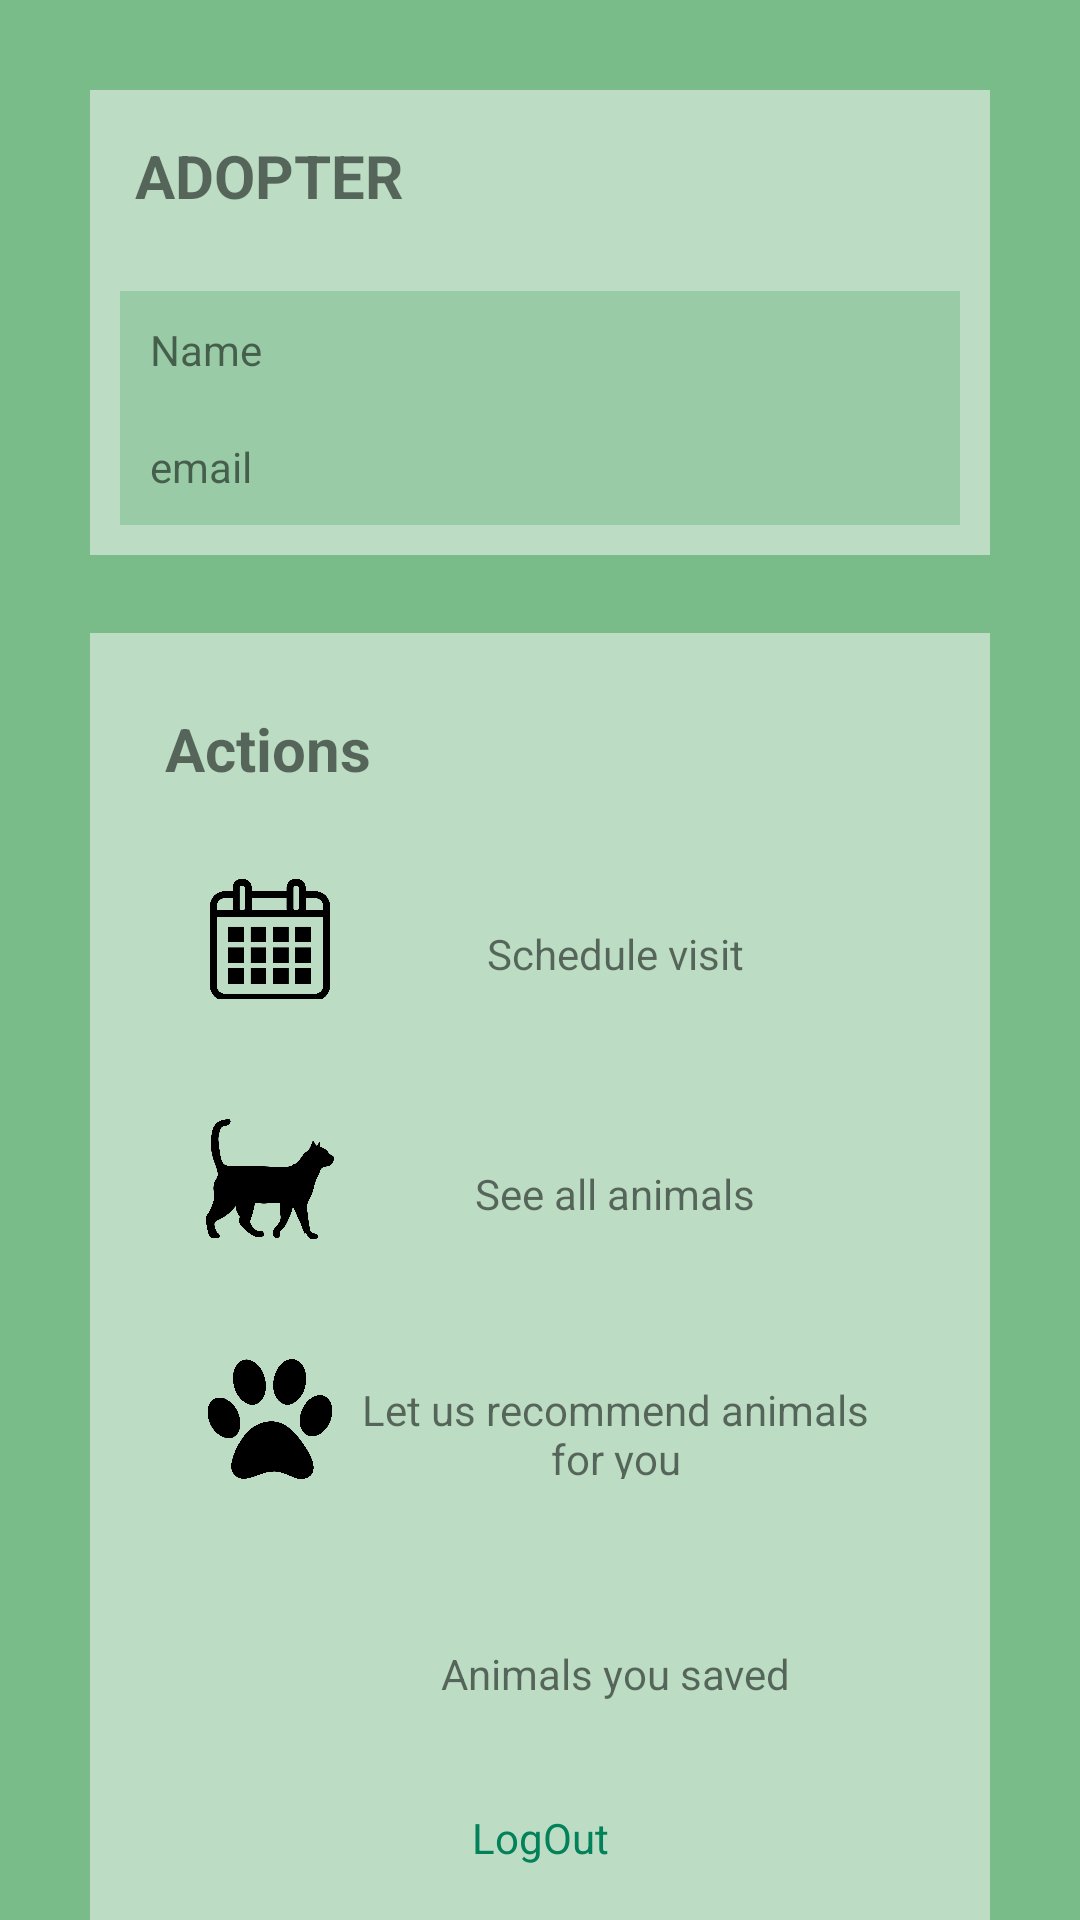

Point at icon controls on the screen. Image size 1080px x 1920px, points as [x,y].
calendar: [270,939]
cat: [270,1179]
paw: [270,1419]
